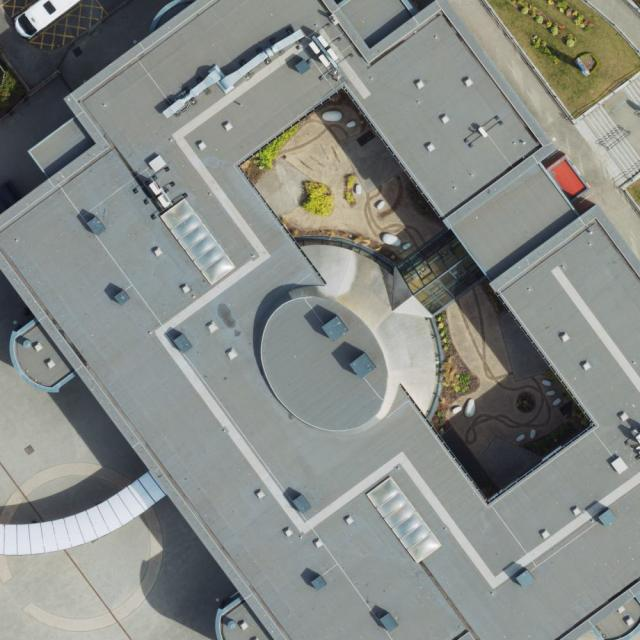roof: (2, 0, 640, 640)
skylight: (160, 192, 237, 288), (365, 474, 443, 566)
